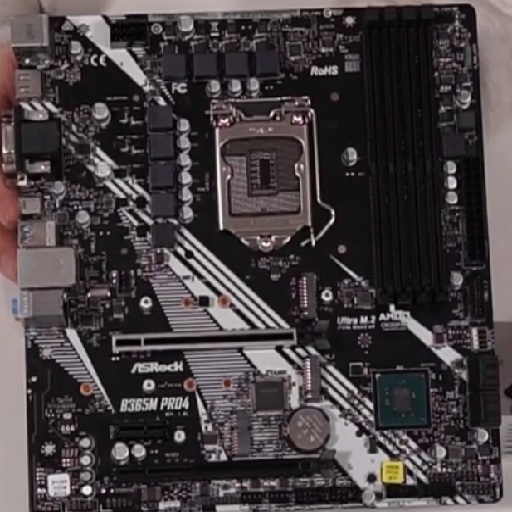CPU: (196, 87, 333, 253)
GPU: (103, 450, 340, 484), (110, 320, 306, 356)
MOTHERBOARD: (7, 10, 507, 510)
RAM: (354, 9, 454, 307)
SSD: (225, 398, 257, 458), (291, 270, 322, 323)
